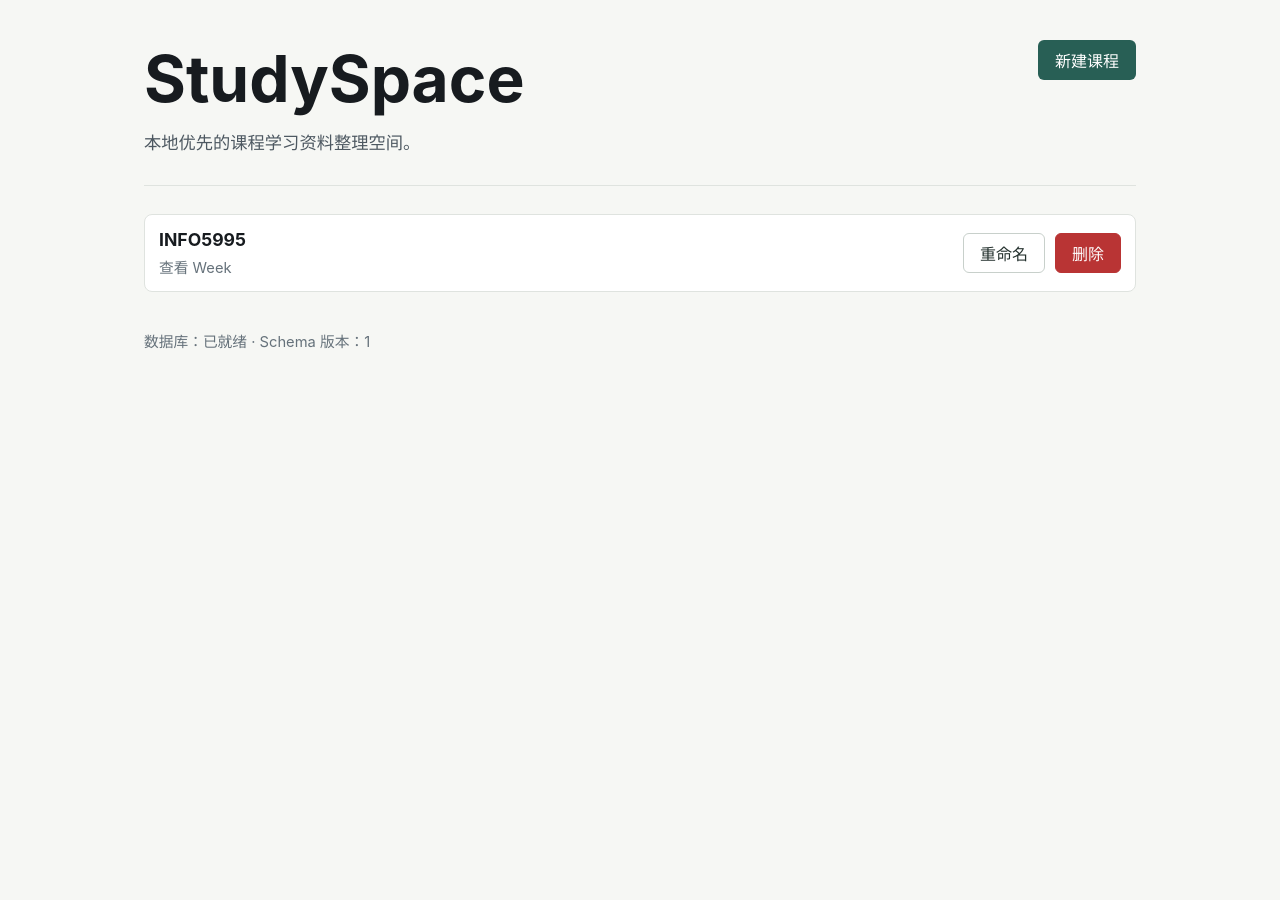
Test: HomePage course management › 修改课程成功后更新名称
Click the button "重命名" at (1004, 253), box [963,233,1045,273]
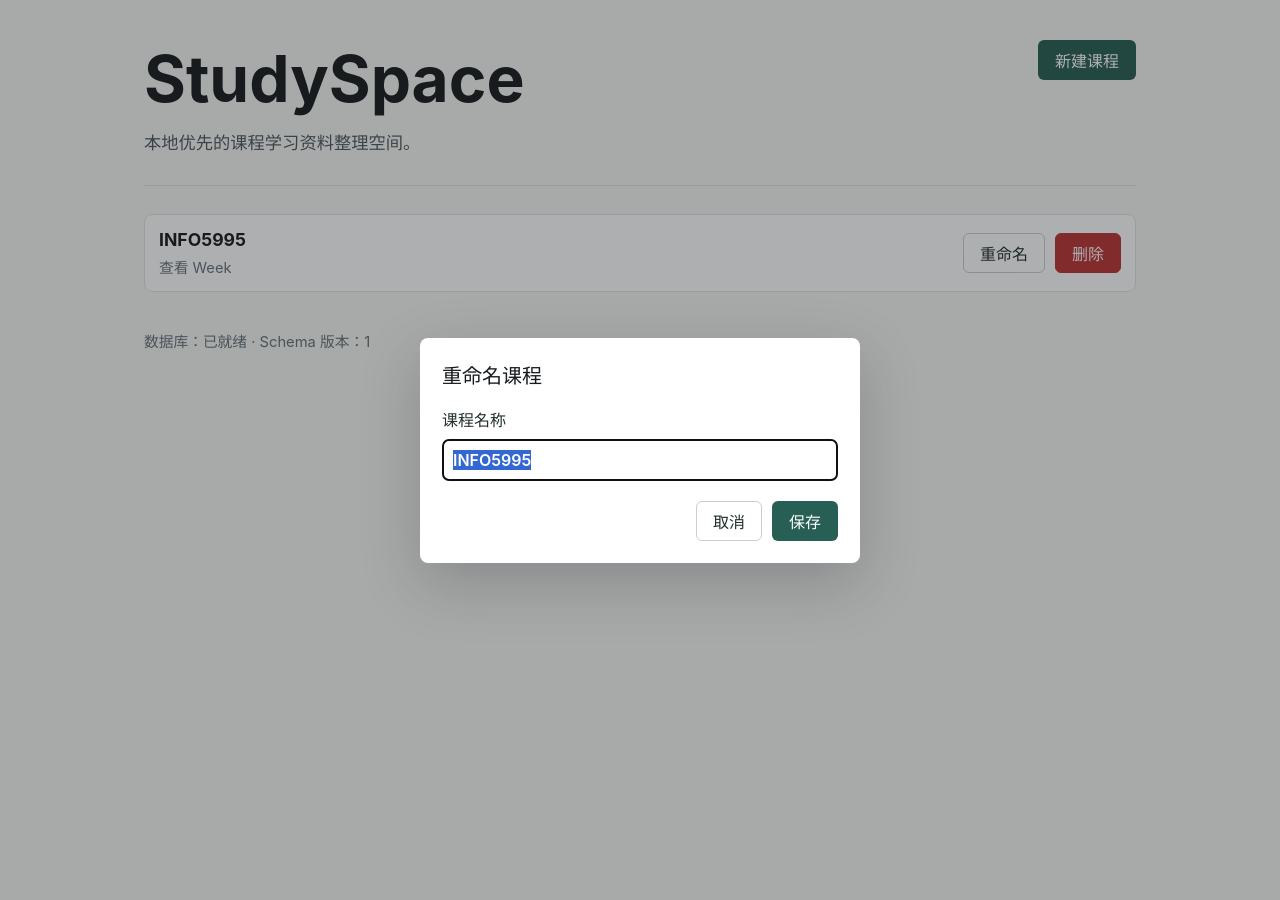
Replace the text in the field labelled "课程名称" with "INFO5995 Advanced" at (640, 460), box [442,438,838,480]
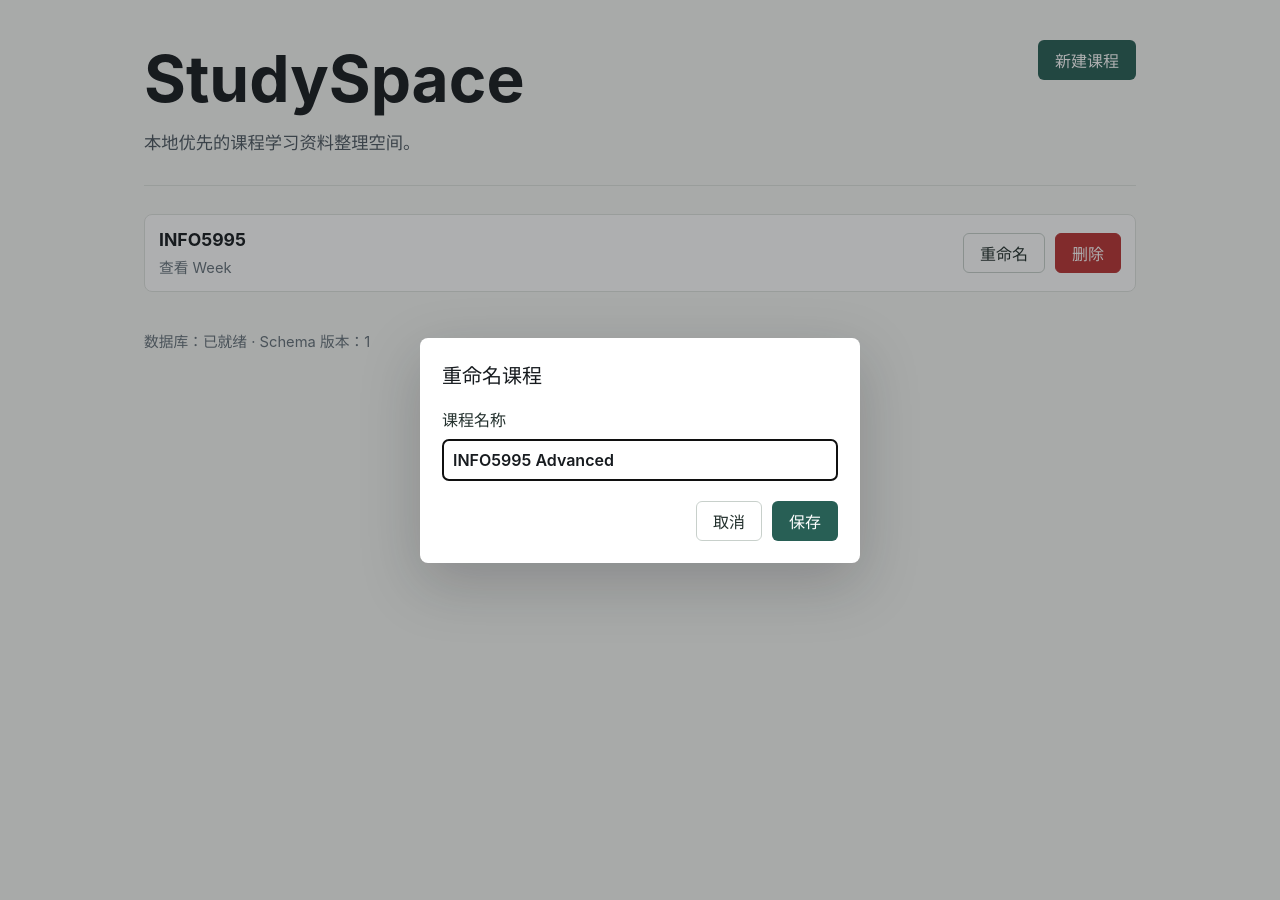
Click the button "保存" at (805, 520), box [772,500,838,540]
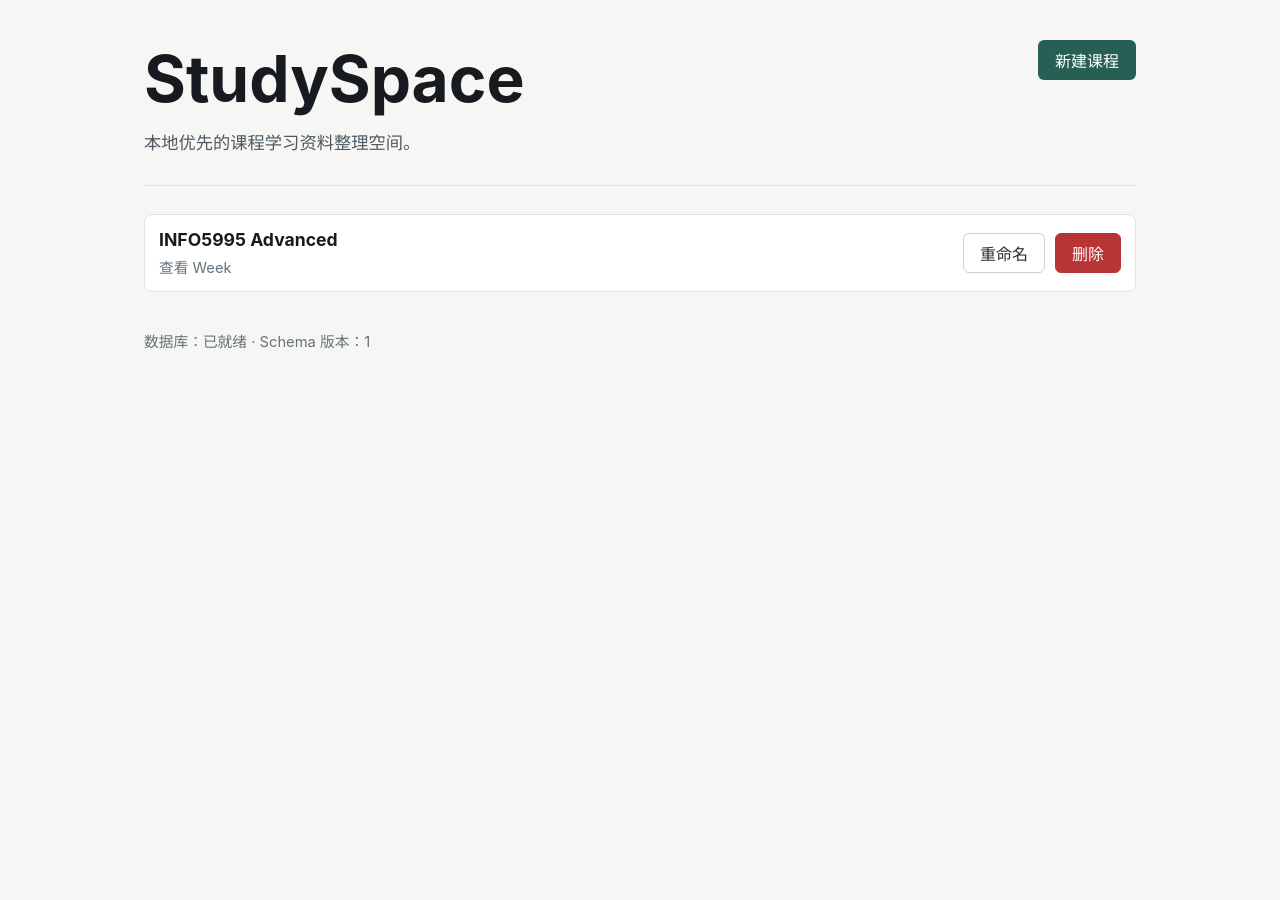
Expected: the text "INFO5995 Advanced" is shown, [159,229,338,250]
